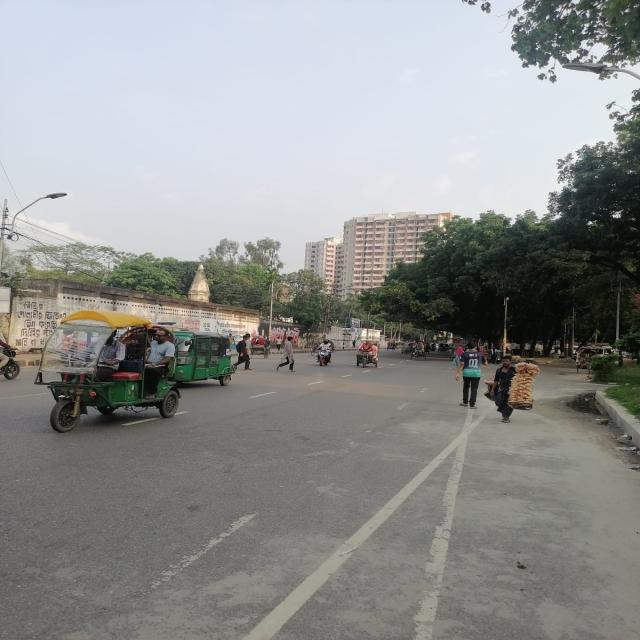person: (276, 336, 294, 372), (236, 334, 250, 371)
